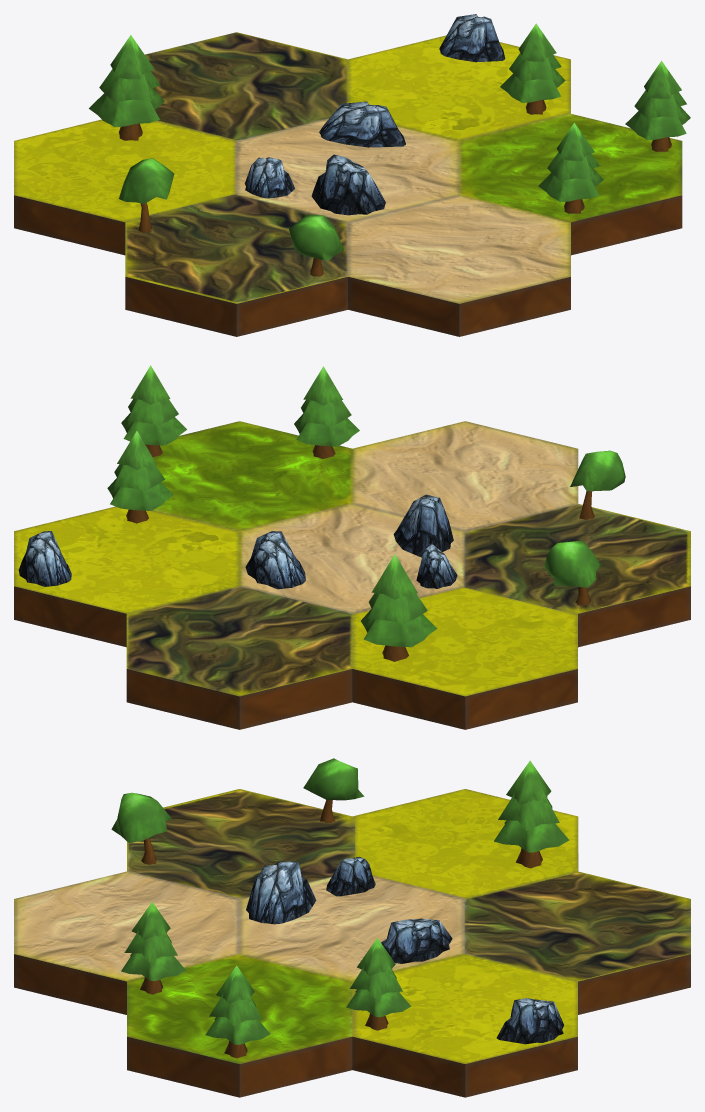
Rendered from Tile_Forest5.fbx.
The picture shows the model from 3 angles, top to bottom: view 1: azimuth 30°, elevation 25°; view 2: azimuth 150°, elevation 25°; view 3: azimuth 270°, elevation 25°; orthographic projection.
Visible parts, largest first — view 1: tile1, tree014, tree019, tree018, tree020, mountain10, mountain8, mountain12, tree017, tree016, mountain11; view 2: tile1, tree014, tree018, tree019, tree020, mountain10, mountain8, tree017, mountain12, tree016, mountain11; view 3: tile1, tree014, mountain10, tree018, tree020, tree019, mountain8, tree016, mountain12, tree017, mountain11.
Part boxes in pixels (x1,y1,x2,y2): tile1: (14, 32, 682, 336); tree014: (89, 35, 164, 140); tree019: (538, 122, 603, 213); tree018: (500, 23, 565, 114); tree020: (625, 61, 690, 151); mountain10: (311, 154, 385, 215); mountain8: (319, 101, 405, 147); mountain12: (439, 14, 505, 62); tree017: (119, 158, 174, 232); tree016: (289, 214, 343, 276); mountain11: (244, 157, 294, 198); tile1: (14, 421, 690, 729); tree014: (361, 554, 437, 661); tree018: (107, 431, 173, 523); tree019: (294, 366, 359, 458); tree020: (121, 365, 186, 457); mountain10: (393, 494, 453, 557); mountain8: (245, 531, 305, 589); tree017: (544, 540, 600, 605); mountain12: (18, 531, 71, 586); tree016: (570, 450, 625, 520); mountain11: (416, 543, 457, 588); tile1: (14, 789, 690, 1097); tree014: (494, 760, 569, 868); mountain10: (246, 861, 316, 924); tree018: (346, 938, 411, 1030); tree020: (205, 965, 270, 1058); tree019: (121, 902, 185, 994); mountain8: (381, 918, 452, 963); tree016: (111, 792, 171, 864); mountain12: (496, 998, 563, 1044); tree017: (303, 758, 364, 822); mountain11: (326, 856, 375, 896).
Bounding box in the file's own units: 130 × 29.37 × 133.
